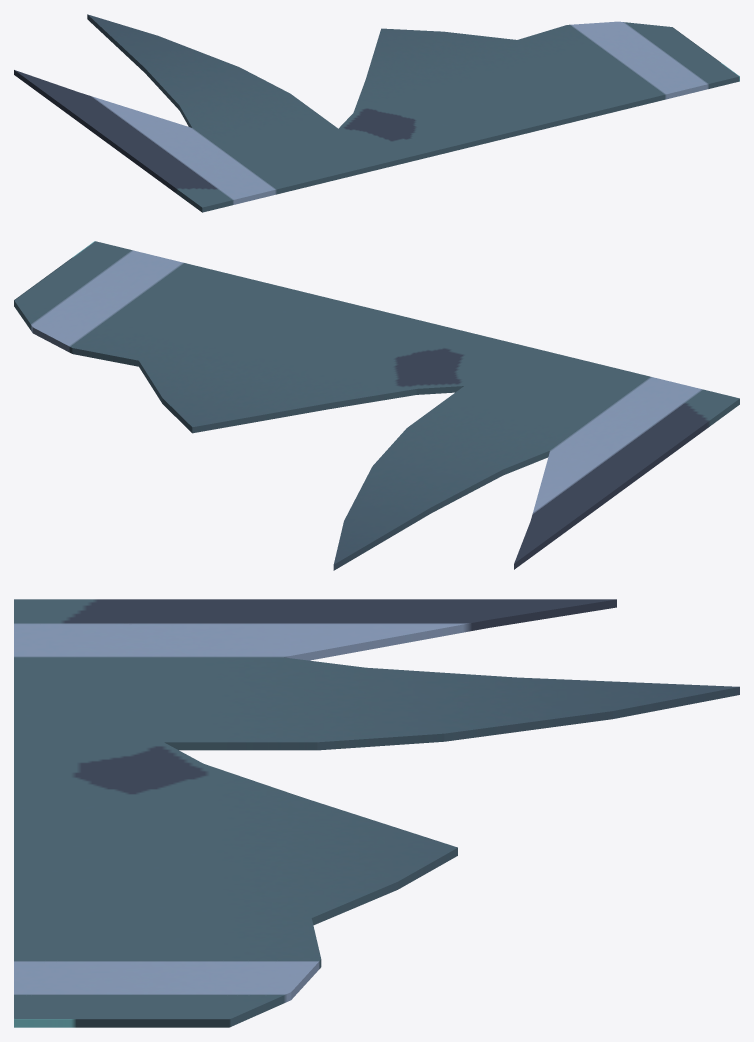
Rendered from Carpet 01 End 04.fbx.
The picture shows the model from 3 angles, top to bottom: view 1: azimuth 30°, elevation 25°; view 2: azimuth 150°, elevation 25°; view 3: azimuth 270°, elevation 25°; orthographic projection. The views are drawn at different scales.
Visible parts, largest first — view 1: Carpet 01 End 04.002; view 2: Carpet 01 End 04.002; view 3: Carpet 01 End 04.002.
Part boxes in pixels (x1,y1,x2,y2): Carpet 01 End 04.002: [14, 14, 739, 212]; Carpet 01 End 04.002: [14, 241, 739, 570]; Carpet 01 End 04.002: [14, 599, 739, 1027].
Size of the model in its own units: 167 by 1.5 by 122.
